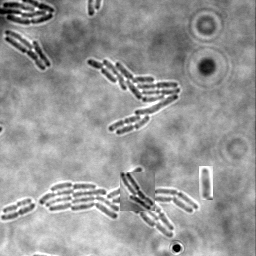Dividing: (1, 204, 37, 222), (3, 199, 33, 215), (199, 166, 213, 200)
Microcolony: (40, 167, 199, 238), (87, 59, 181, 136), (5, 30, 52, 72), (1, 1, 56, 26), (120, 172, 155, 211)
